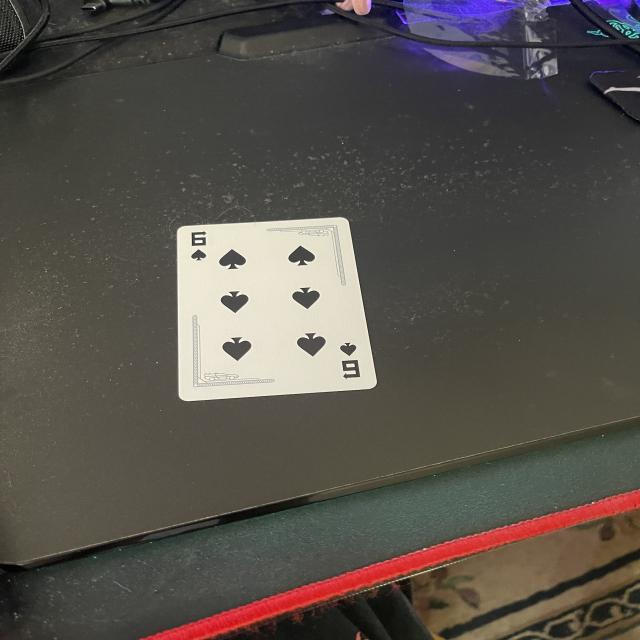6 of spades: (178, 219, 376, 399)
